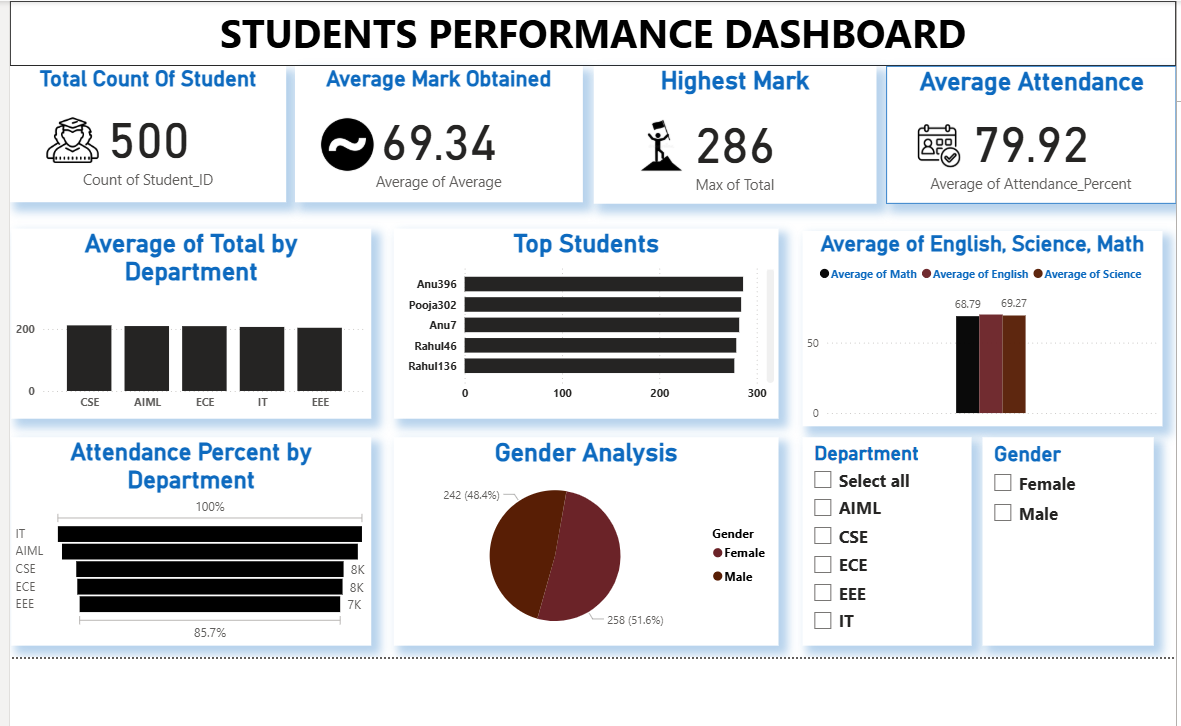

The dashboard page shown, as its layout file describes it:
{"tool":"powerbi","page":{"name":"Page 1","canvas":[1280,720],"ordinal":0},"visuals":[{"type":"card","title":"Total Count Of Student","fields":{"Values":["Count(StudentData.Student_ID)"]},"box":[0,71.4,303.3,149.6],"z":0},{"type":"image","box":[15.1,120.8,107,67.2],"z":1000},{"type":"shape","box":[0,0,1280.3,57.6],"z":2000},{"type":"textbox","box":[0,0,1280.3,71.4],"z":3000},{"type":"card","title":"Average Mark Obtained","fields":{"Values":["Avg(StudentData.Average)"]},"box":[312.9,71.4,315.6,149.6],"z":4000},{"type":"image","box":[328,120.8,85.1,74.1],"z":5000},{"type":"card","title":"Highest Mark","fields":{"Values":["Max(StudentData.Total)"]},"box":[640.8,71.4,310.1,150.9],"z":6000},{"type":"image","box":[653.2,124.9,122.1,67.2],"z":7000},{"type":"card","title":"Average Attendance","fields":{"Values":["Avg(StudentData.Attendance_Percent)"]},"box":[961.9,71.4,318.4,150.9],"z":8000},{"type":"image","box":[971.5,130.4,96.1,57.6],"z":9000},{"type":"columnChart","fields":{"Category":["StudentData.Department"],"Y":["Avg(StudentData.Total)"]},"box":[1.4,249.7,395.2,208.6],"z":10000},{"type":"barChart","title":"Top Students ","fields":{"Category":["StudentData.Name"],"Y":["Sum(StudentData.Total)"]},"box":[421.3,249.7,422.6,208.6],"z":11000},{"type":"clusteredColumnChart","title":"Average of English, Science, Math","fields":{"Y":["Avg(StudentData.Math)","Avg(StudentData.English)","Avg(StudentData.Science)"]},"box":[870,252.5,395.2,214.1],"z":11001},{"type":"funnel","title":"Attendance Percent by Department","fields":{"Y":["Sum(StudentData.Attendance_Percent)"],"Category":["StudentData.Department"]},"box":[1.4,478.9,395.2,229.2],"z":11002},{"type":"pieChart","title":"Gender Analysis","fields":{"Category":["StudentData.Gender"],"Y":["CountNonNull(StudentData.Student_ID)"]},"box":[421.3,478.9,422.6,229.2],"z":11003},{"type":"slicer","fields":{"Values":["StudentData.Department"]},"box":[870,478.9,185.2,229.2],"z":11004},{"type":"slicer","fields":{"Values":["StudentData.Gender"]},"box":[1067.6,478.9,188,229.2],"z":11005}]}

Visuals, with their boxes on the page's 1280x720 design canvas (x1, y1, x2, y2). These are canvas units, not pixel positions in the 1181x726 screenshot, which may show the page scaled, cropped or inside an application window:
"Total Count Of Student" card: (0, 71, 303, 221)
image: (15, 121, 122, 188)
shape: (0, 0, 1280, 58)
textbox: (0, 0, 1280, 71)
"Average Mark Obtained" card: (313, 71, 628, 221)
image: (328, 121, 413, 195)
"Highest Mark" card: (641, 71, 951, 222)
image: (653, 125, 775, 192)
"Average Attendance" card: (962, 71, 1280, 222)
image: (972, 130, 1068, 188)
columnChart - StudentData.Department x Avg(StudentData.Total): (1, 250, 397, 458)
"Top Students " barChart: (421, 250, 844, 458)
"Average of English, Science, Math" clusteredColumnChart: (870, 252, 1265, 467)
"Attendance Percent by Department" funnel: (1, 479, 397, 708)
"Gender Analysis" pieChart: (421, 479, 844, 708)
slicer - StudentData.Department: (870, 479, 1055, 708)
slicer - StudentData.Gender: (1068, 479, 1256, 708)
